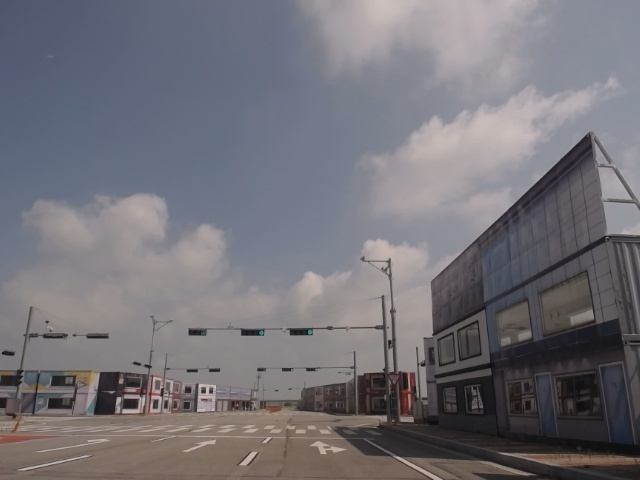straight_green_4: (291, 328, 314, 337), (242, 329, 267, 337)
